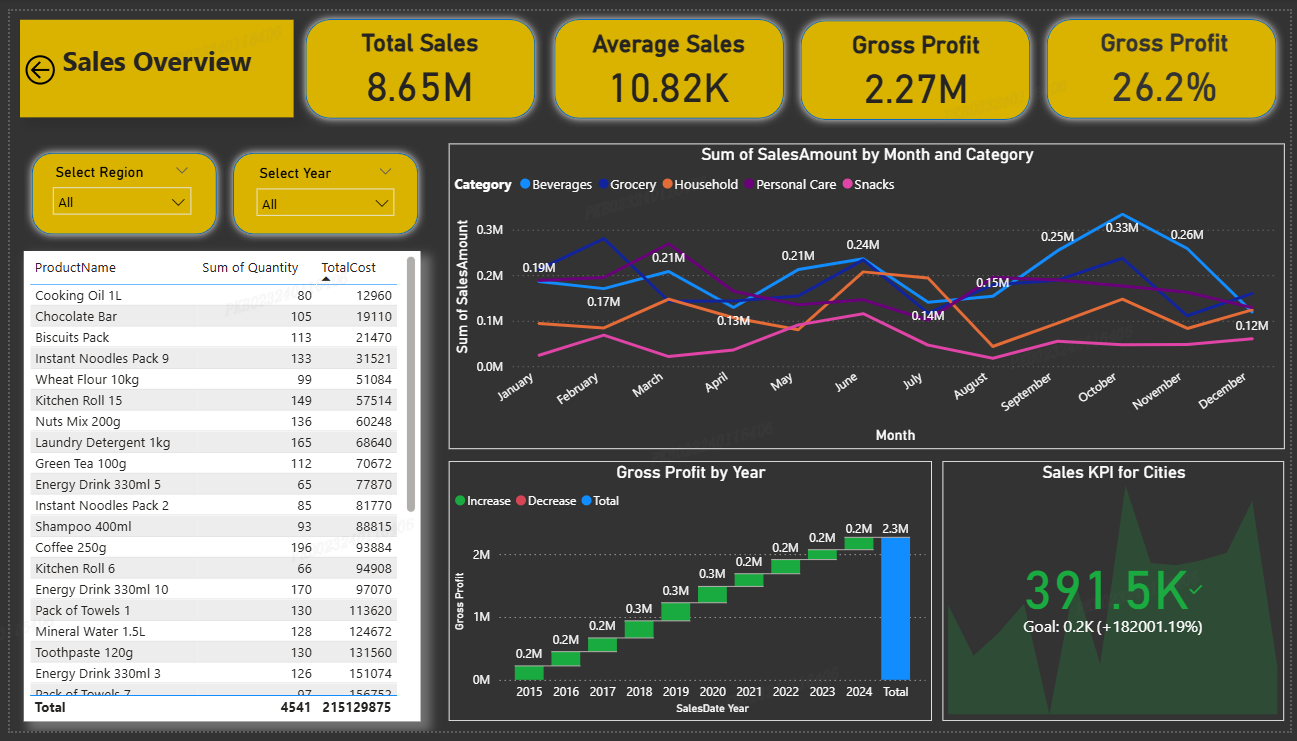

The page's visual inventory and layout, read from the dashboard file:
{"tool":"powerbi","page":{"name":"Sales Overview","canvas":[1280,720],"ordinal":3},"visuals":[{"type":"tableEx","fields":{"Values":["Products.ProductName","Sum(Sales.Quantity)","Sales.TotalCost"]},"box":[13.3,240,396.7,470],"z":0},{"type":"waterfallChart","fields":{"Y":["Measures_Table.Gross Profit"],"Category":["Sales.SalesDate.Variation.Date Hierarchy.Year"]},"box":[438.6,450,482.9,260],"z":1000},{"type":"textbox","box":[10,8.8,273.8,97.5],"z":2000},{"type":"shape","box":[287.1,0,245.7,115.7],"z":3000},{"type":"card","title":"Total Sales","fields":{"Values":["Measures_Table.Total Sales"]},"box":[310,17.1,200,80],"z":4000},{"type":"shape","box":[1028.6,0,245.7,115.7],"z":5000},{"type":"shape","box":[782.9,1.4,245.7,115.7],"z":6000},{"type":"shape","box":[535.7,0,245.7,115.7],"z":7000},{"type":"card","title":"Average Sales","fields":{"Values":["Measures_Table.Average Sales"]},"box":[558.6,18.6,200,80],"z":8000},{"type":"card","title":"Gross Profit","fields":{"Values":["Measures_Table.Gross Profit"]},"box":[805.7,20,200,80],"z":9000},{"type":"card","title":"Gross Profit","fields":{"Values":["Measures_Table.Gross Profit %"]},"box":[1049.2,17.5,211.7,80],"z":10000},{"type":"shape","box":[13.3,133.3,201.1,97.8],"z":11000},{"type":"slicer","fields":{"Values":["Customers.Region"]},"box":[33,148,158.5,67],"z":12000},{"type":"shape","box":[214.7,133.5,201.2,97.6],"z":13000},{"type":"slicer","fields":{"Values":["Sales.SalesDate.Variation.Date Hierarchy.Year"]},"box":[235.8,148.3,158.3,66.7],"z":14000},{"type":"lineChart","fields":{"Y":["Sum(Sales.SalesAmount)"],"Series":["Products.Category"],"Category":["Sales.SalesDate.Variation.Date Hierarchy.Month"]},"box":[438.6,132.9,835.7,305.7],"z":15000},{"type":"kpi","title":"Sales KPI for Cities","fields":{"Indicator":["Measures_Table.Total Sales"],"Goal":["Measures_Table.Total Quantity"],"TrendLine":["Customers.City"]},"box":[932.9,450,341.4,260],"z":16000},{"type":"actionButton","box":[9.8,39.1,100.3,40.4],"z":16001}]}

Visuals, with their boxes in screenshot pixels (x1, y1, x2, y2), scaled from the page's 1280x720 canvas onto the 1297x741 screenshot:
tableEx - Products.ProductName x Sum(Sales.Quantity): (left=13, top=247, right=415, bottom=731)
waterfallChart - Measures_Table.Gross Profit x Sales.SalesDate.Variation.Date Hierarchy.Year: (left=444, top=463, right=934, bottom=731)
textbox: (left=10, top=9, right=288, bottom=109)
shape: (left=291, top=0, right=540, bottom=119)
"Total Sales" card: (left=314, top=18, right=517, bottom=100)
shape: (left=1042, top=0, right=1291, bottom=119)
shape: (left=793, top=1, right=1042, bottom=121)
shape: (left=543, top=0, right=792, bottom=119)
"Average Sales" card: (left=566, top=19, right=769, bottom=101)
"Gross Profit" card: (left=816, top=21, right=1019, bottom=103)
"Gross Profit" card: (left=1063, top=18, right=1278, bottom=100)
shape: (left=13, top=137, right=217, bottom=238)
slicer - Customers.Region: (left=33, top=152, right=194, bottom=221)
shape: (left=218, top=137, right=421, bottom=238)
slicer - Sales.SalesDate.Variation.Date Hierarchy.Year: (left=239, top=153, right=399, bottom=221)
lineChart - Sum(Sales.SalesAmount) x Products.Category: (left=444, top=137, right=1291, bottom=451)
"Sales KPI for Cities" kpi: (left=945, top=463, right=1291, bottom=731)
actionButton: (left=10, top=40, right=112, bottom=82)
